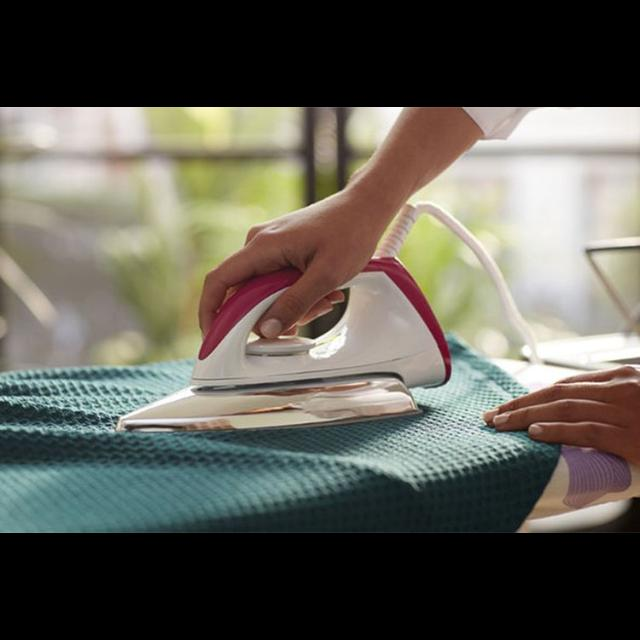Clothes-Iron: (144, 240, 468, 430)
